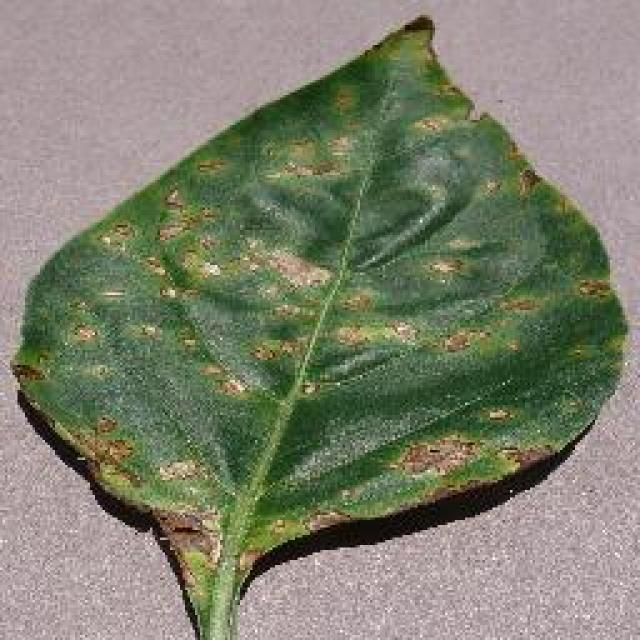Chilli_Bacterial_Spot: (8, 13, 630, 595), (245, 237, 333, 295), (177, 245, 225, 285), (92, 215, 138, 253), (152, 453, 202, 485), (495, 290, 543, 318), (573, 275, 615, 303), (423, 252, 465, 280), (512, 162, 542, 198), (130, 315, 165, 345), (190, 152, 228, 178), (68, 320, 100, 348), (158, 185, 188, 213), (92, 283, 128, 305), (482, 403, 512, 425)
